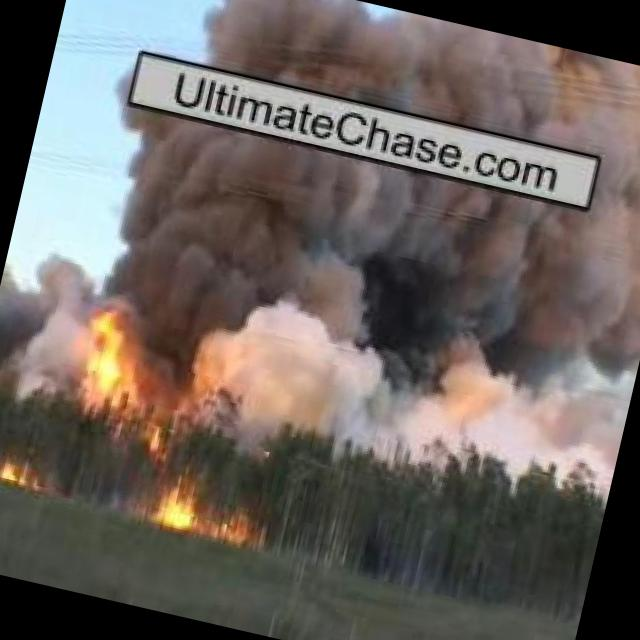Fire: (74, 288, 162, 426), (150, 472, 203, 530), (0, 452, 58, 490), (218, 502, 258, 542)
Smoke: (73, 100, 640, 419), (166, 322, 624, 516), (194, 0, 640, 170)
